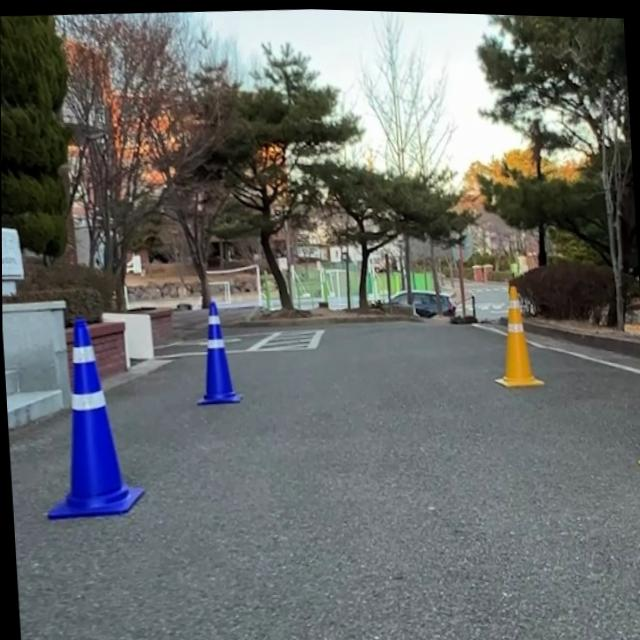b_rub: (47, 318, 142, 520), (197, 300, 241, 404)
y_rub: (496, 283, 545, 385)
